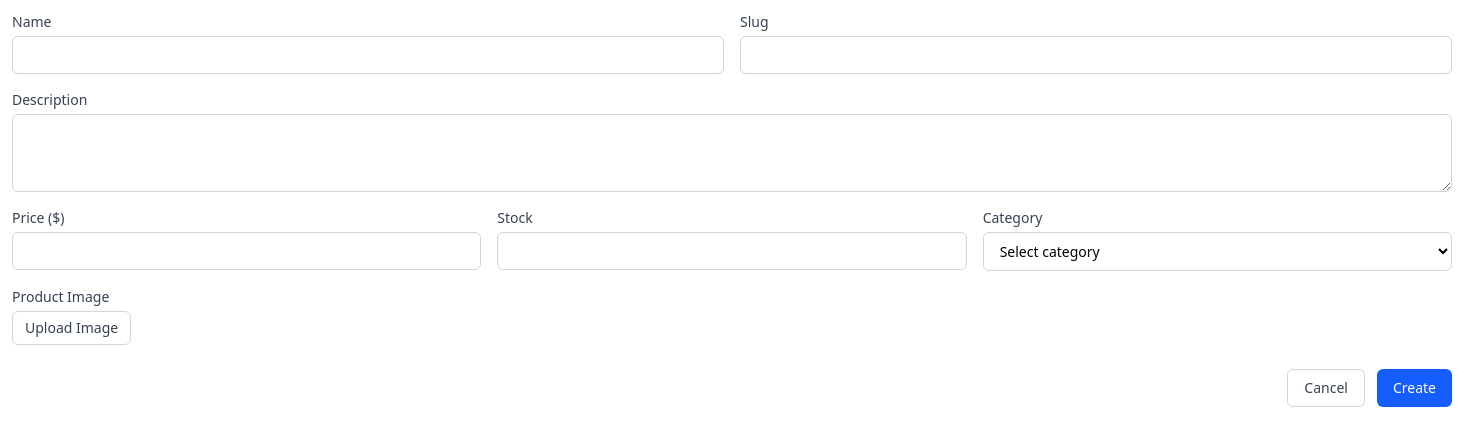
ProductForm › auto-generates slug from name when no initial
Type "My New Product" into the field labelled "Name".
click(368, 55); type("My New Product")  # box [12, 36, 724, 74]
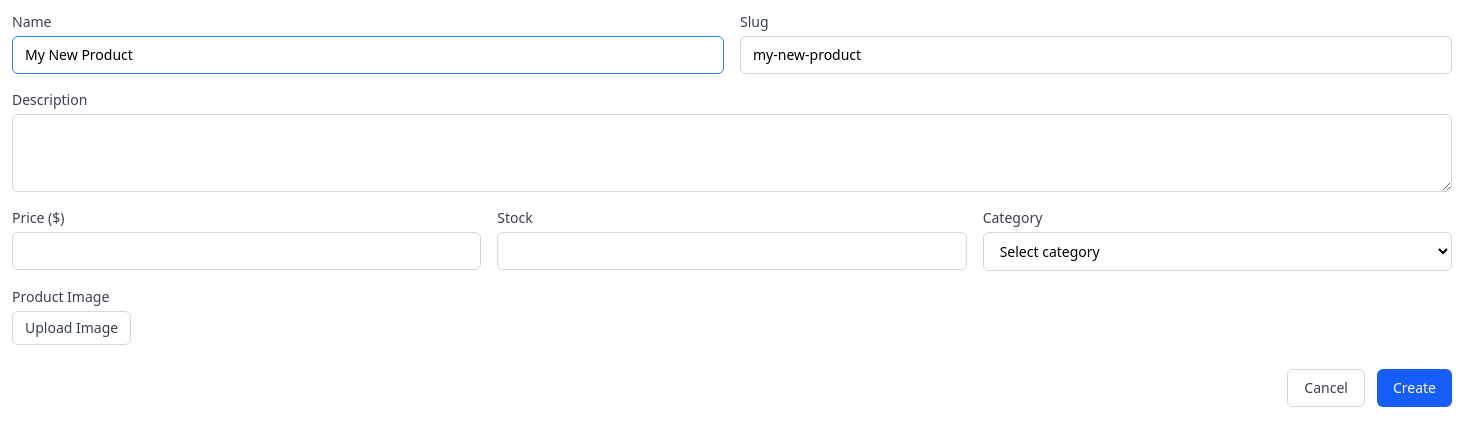
Result: the field labelled "Slug" holds "my-new-product" at [740, 36, 1452, 74]
